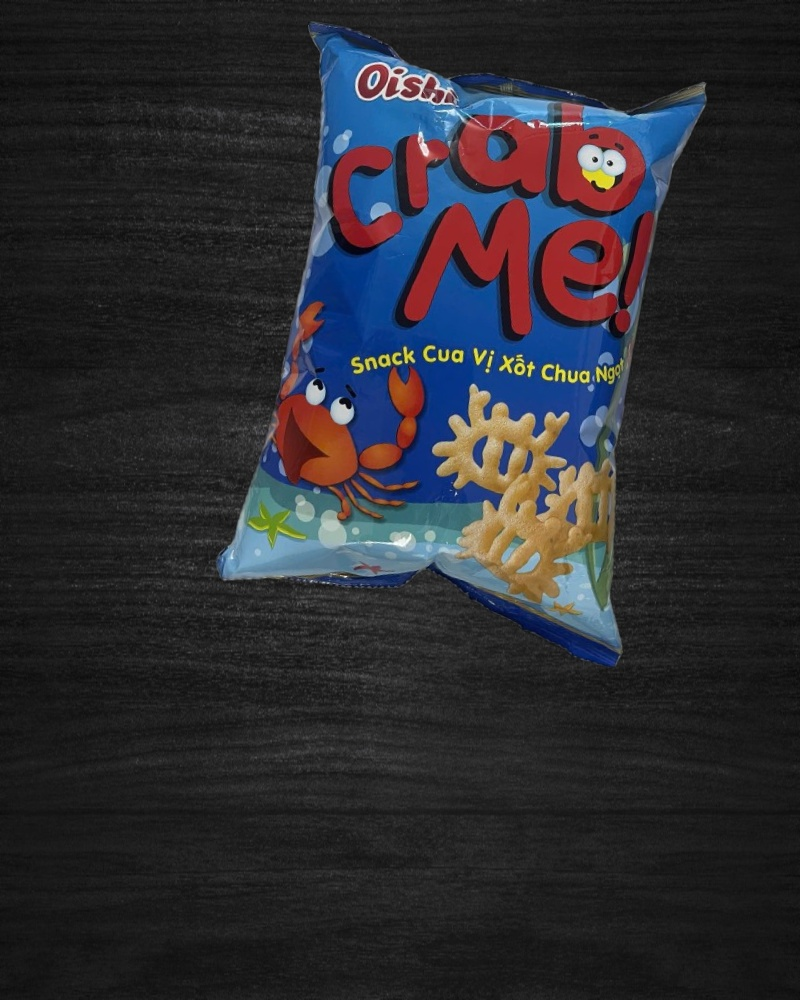Snack chay: (208, 13, 723, 671)
